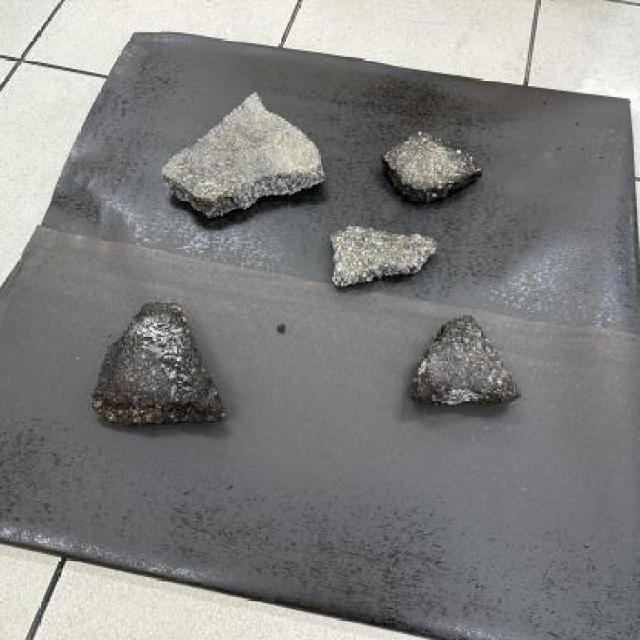Road Debris: (106, 304, 223, 422), (166, 110, 277, 206), (420, 317, 522, 392), (386, 127, 480, 204), (333, 222, 435, 290)
